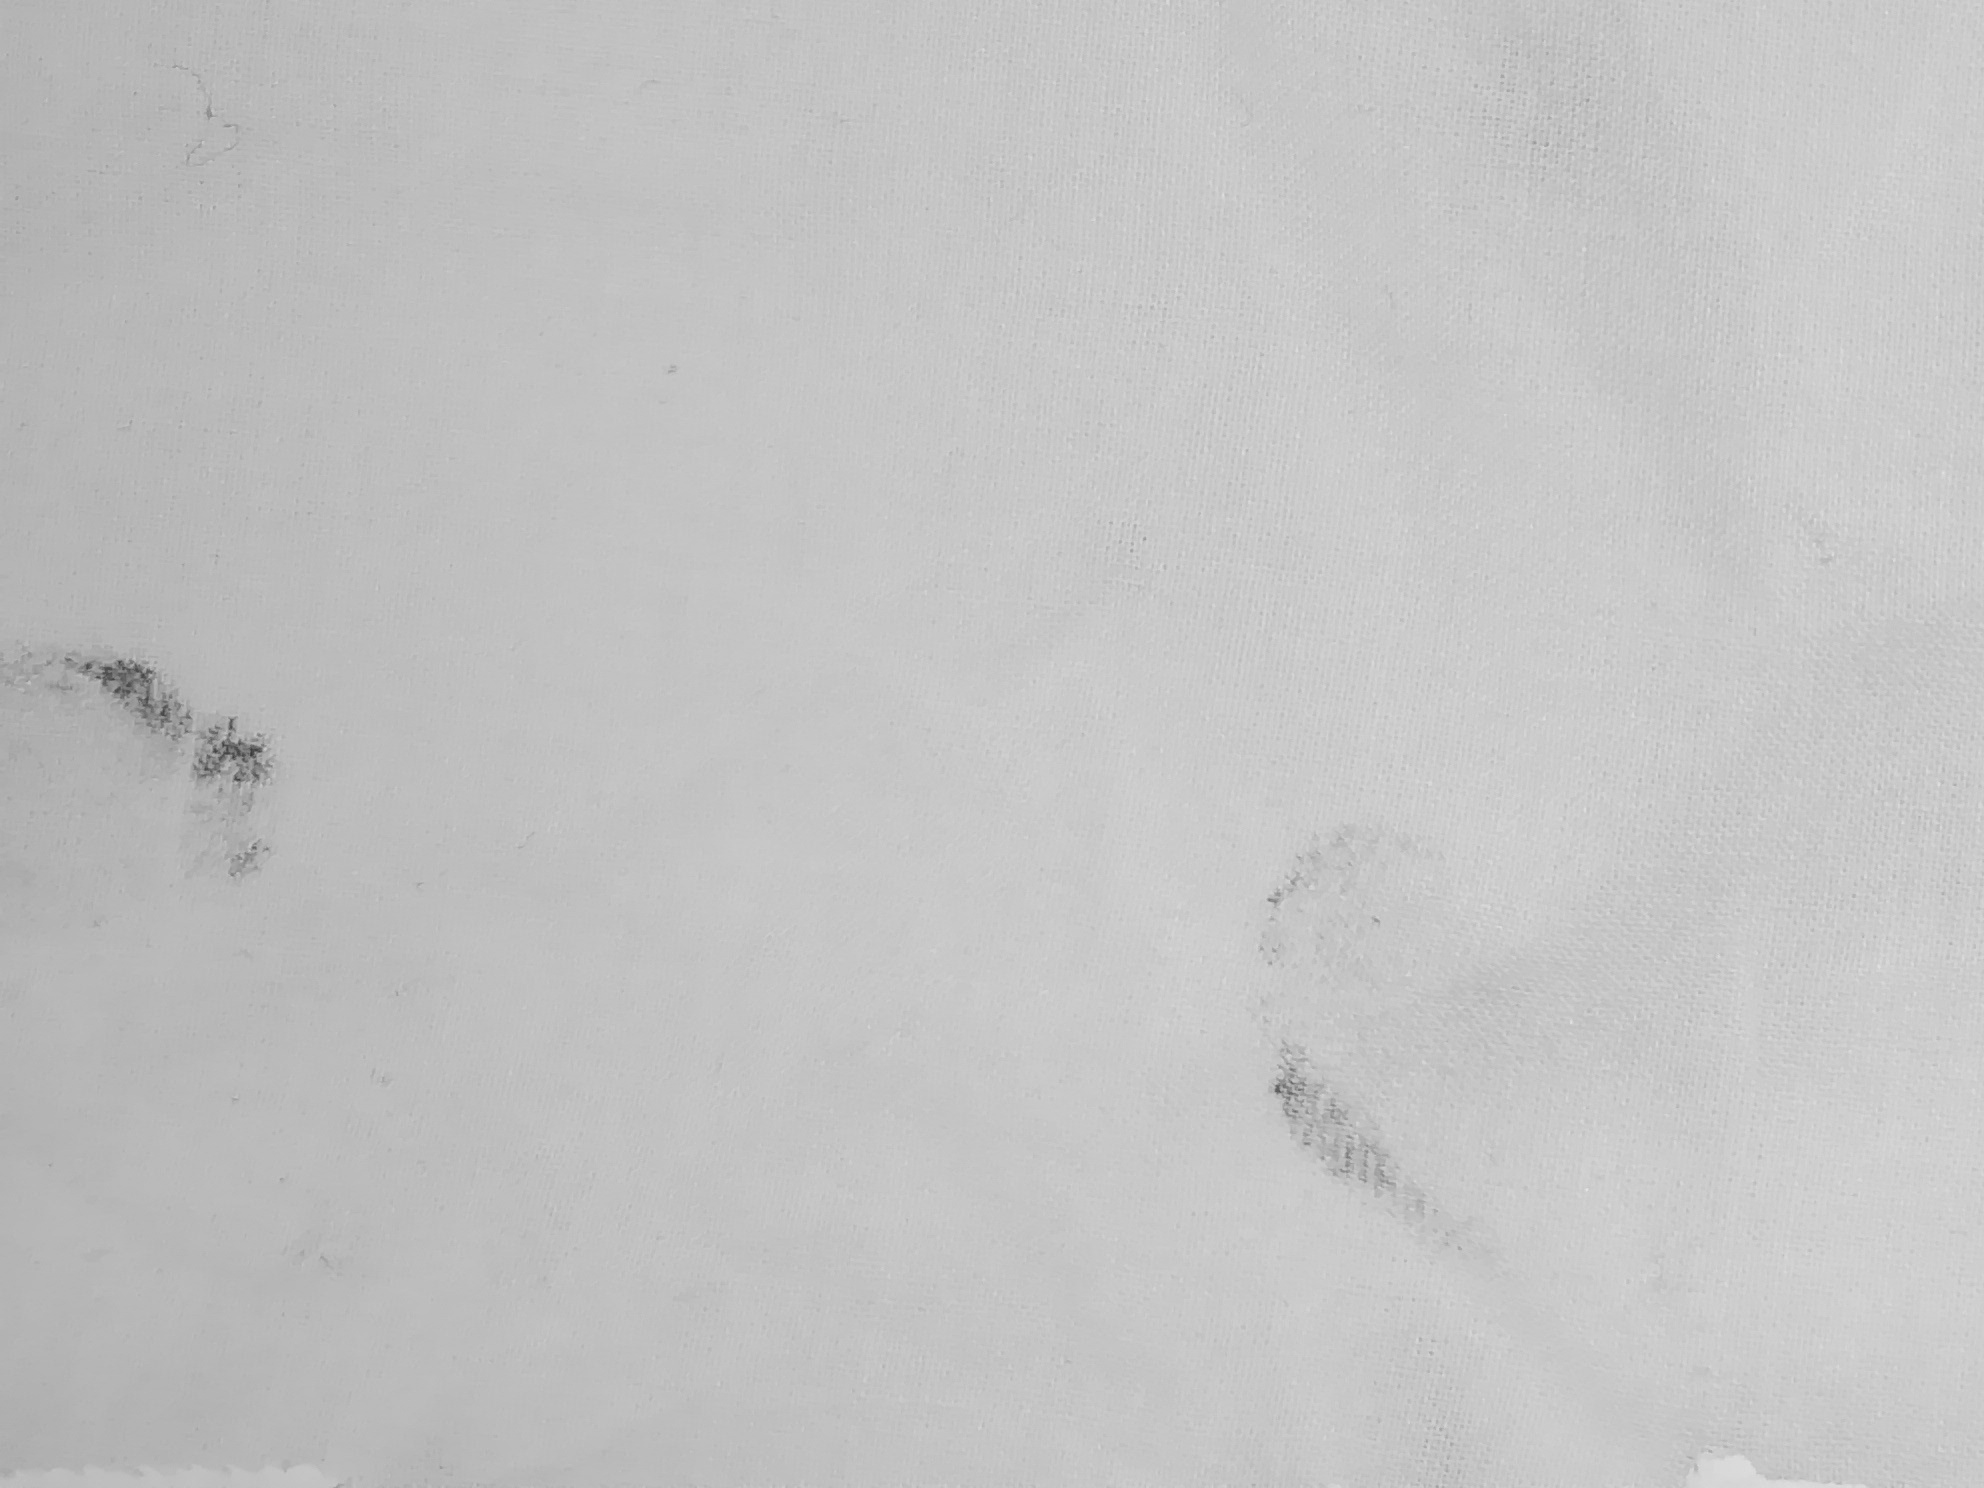Stain: (1134, 689, 1678, 1310), (6, 494, 351, 947)
